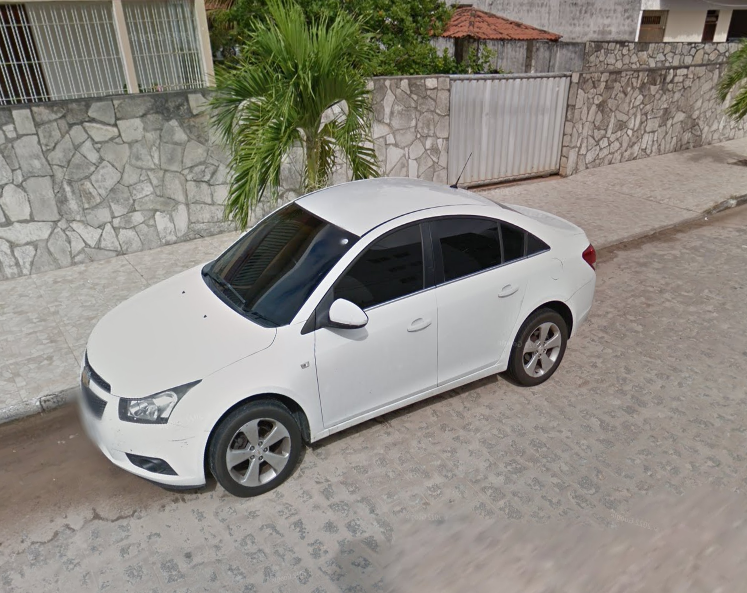car: (74, 149, 600, 500)
